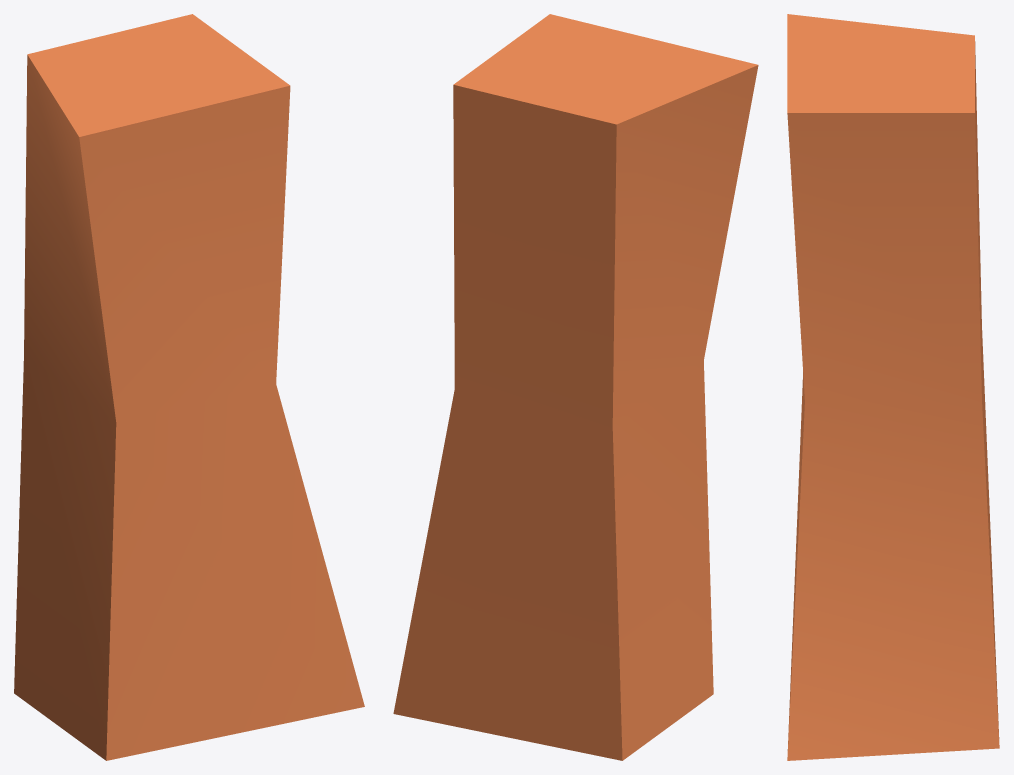
3 views of the same model, side by side, from view 1: azimuth 30°, elevation 25°; view 2: azimuth 150°, elevation 25°; view 3: azimuth 270°, elevation 25° (orthographic). The views are drawn at different scales.
Visible parts, largest first — view 1: leftLeg; view 2: leftLeg; view 3: leftLeg.
Boxes of the visible parts, bbox=[...] form: leftLeg: bbox=[14, 14, 364, 760]; leftLeg: bbox=[393, 14, 758, 760]; leftLeg: bbox=[787, 14, 999, 760].
Size of the model in its own units: 1.61 by 3.45 by 1.08.
